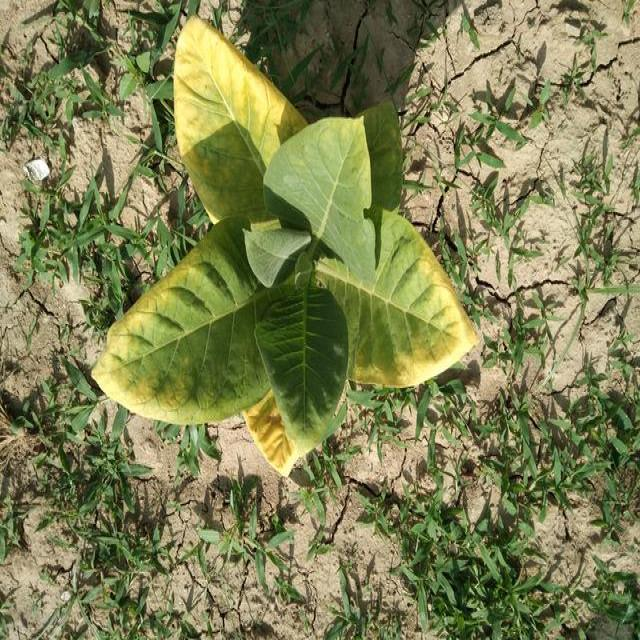crop: (86, 22, 482, 494)
